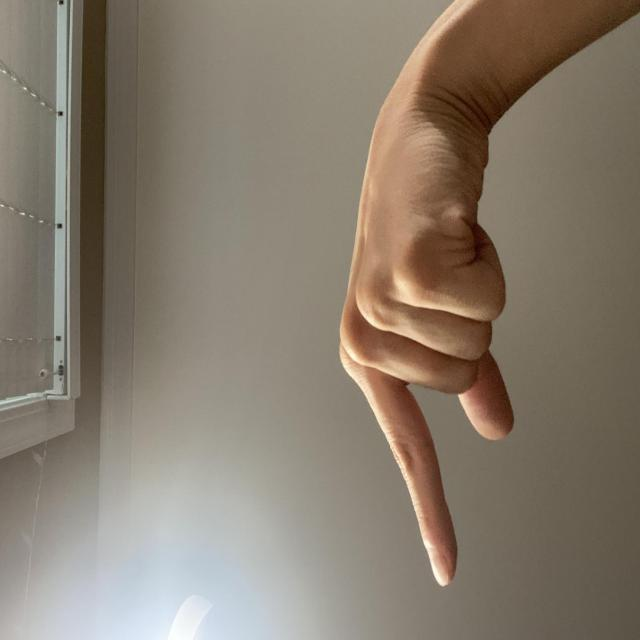G: (29, 440, 480, 640)
